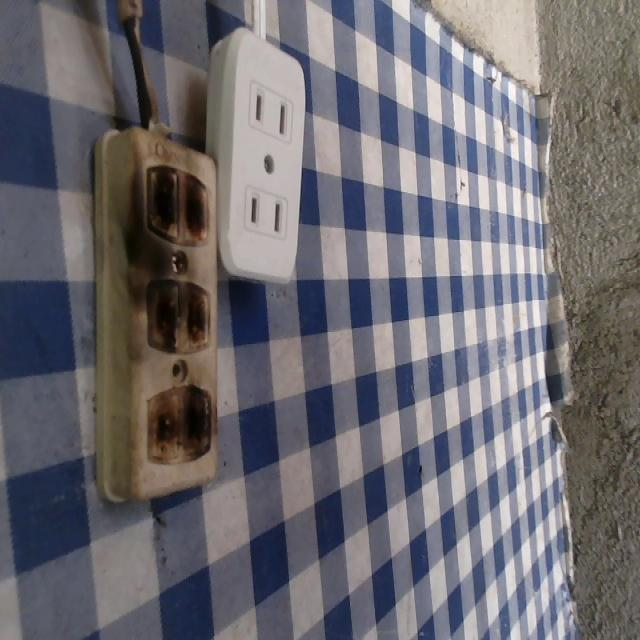-: (142, 158, 214, 250), (142, 278, 219, 358), (141, 383, 212, 464)
